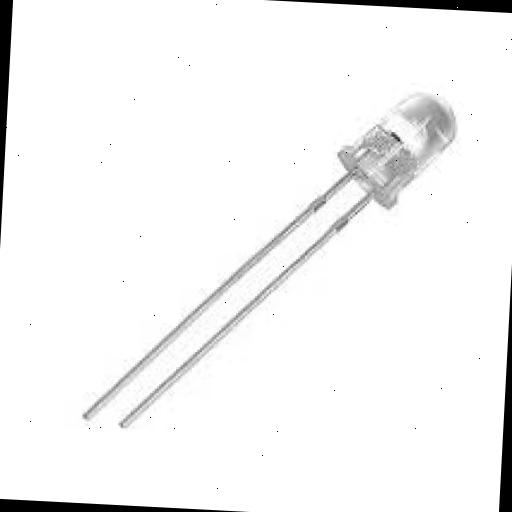LED: (38, 30, 491, 493)
